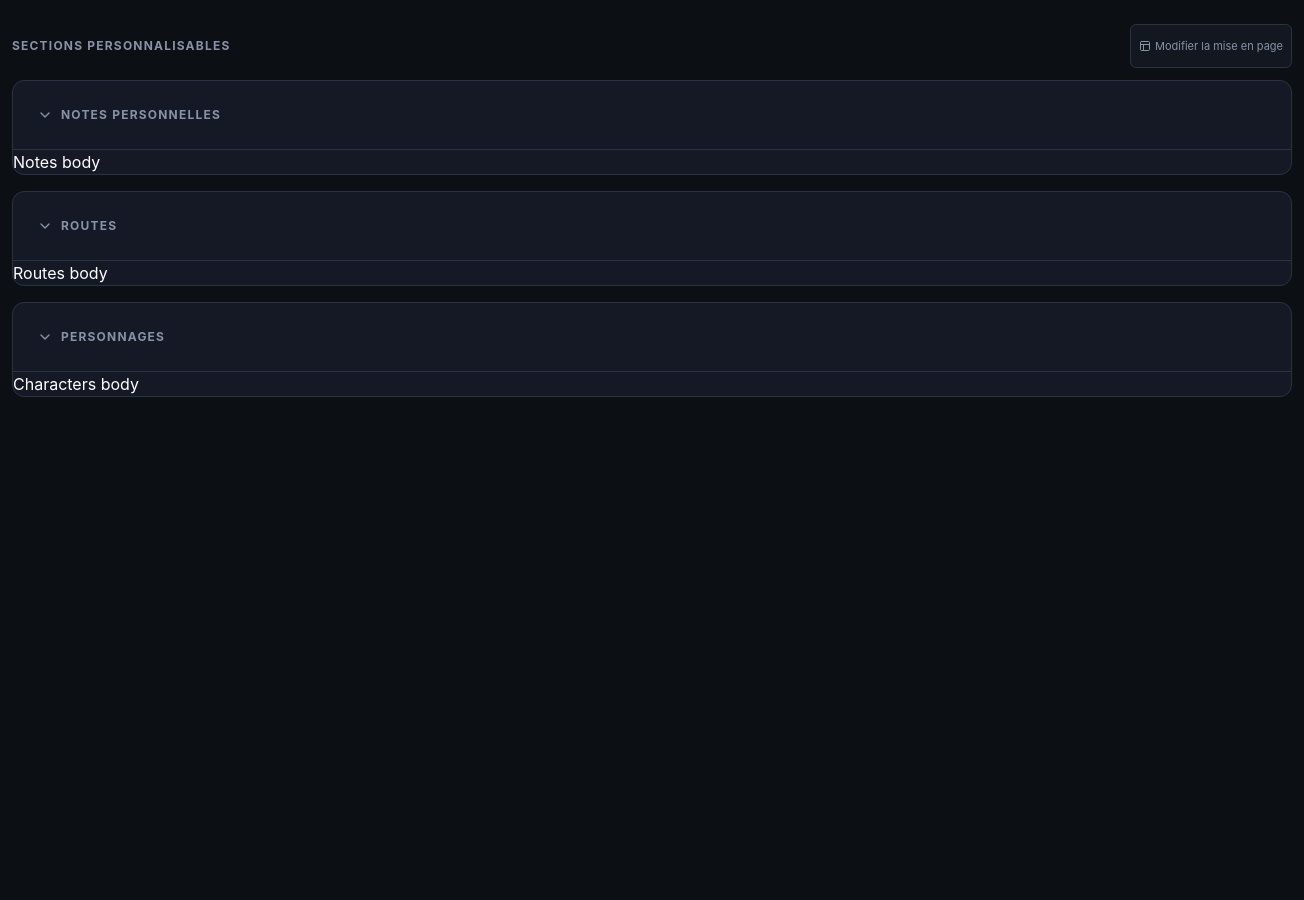
VnDetailLayout › hides a section in the draft and reflects it on save
Click the button "Modifier la mise en page": click(1211, 46) left=1130, top=24, right=1292, bottom=68
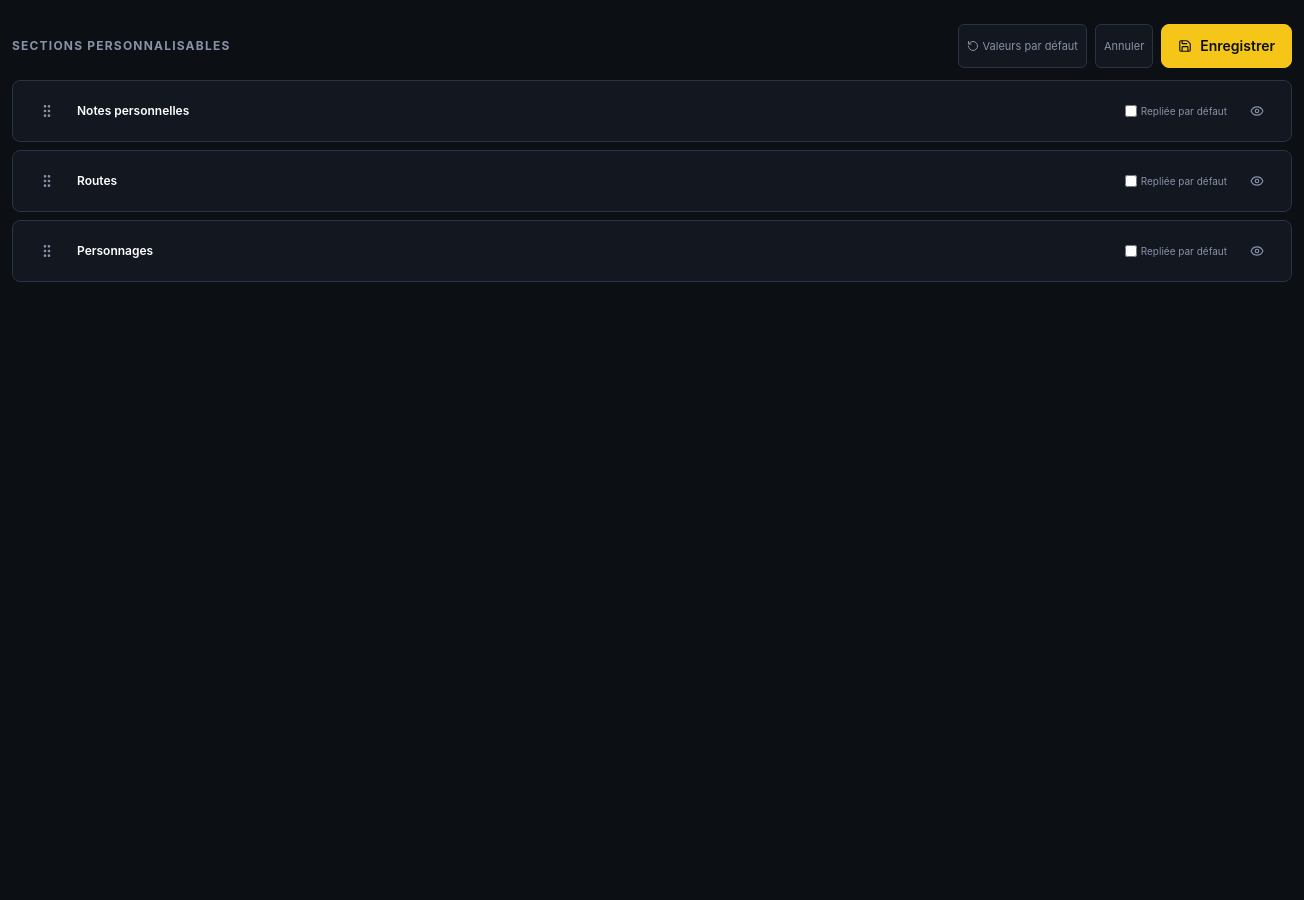
Click the button named "Masquer cette section" in the row of "Notes personnelles": click(1257, 111) left=1235, top=89, right=1279, bottom=133
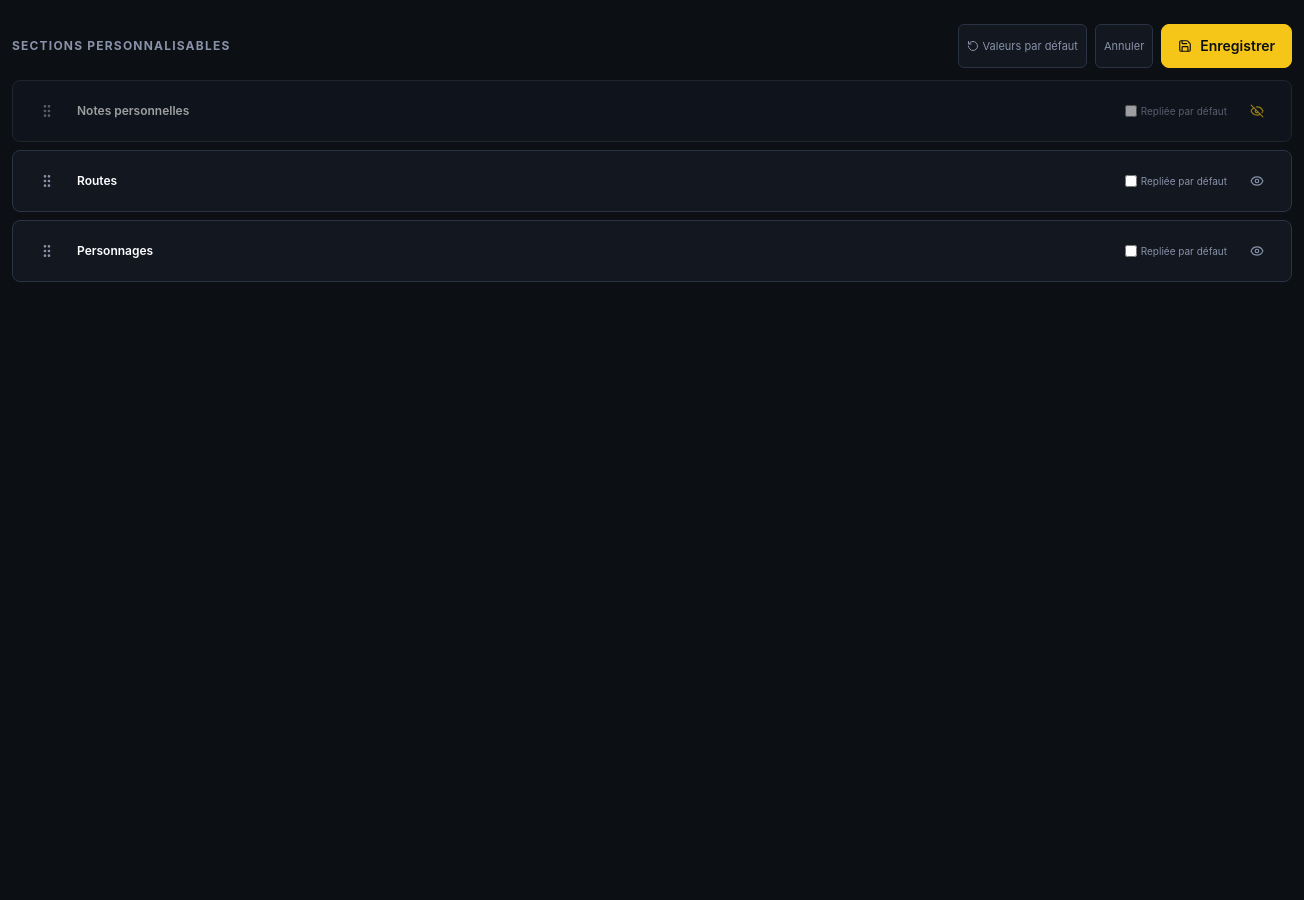
Click the button "Enregistrer": click(1227, 46) left=1161, top=24, right=1292, bottom=68
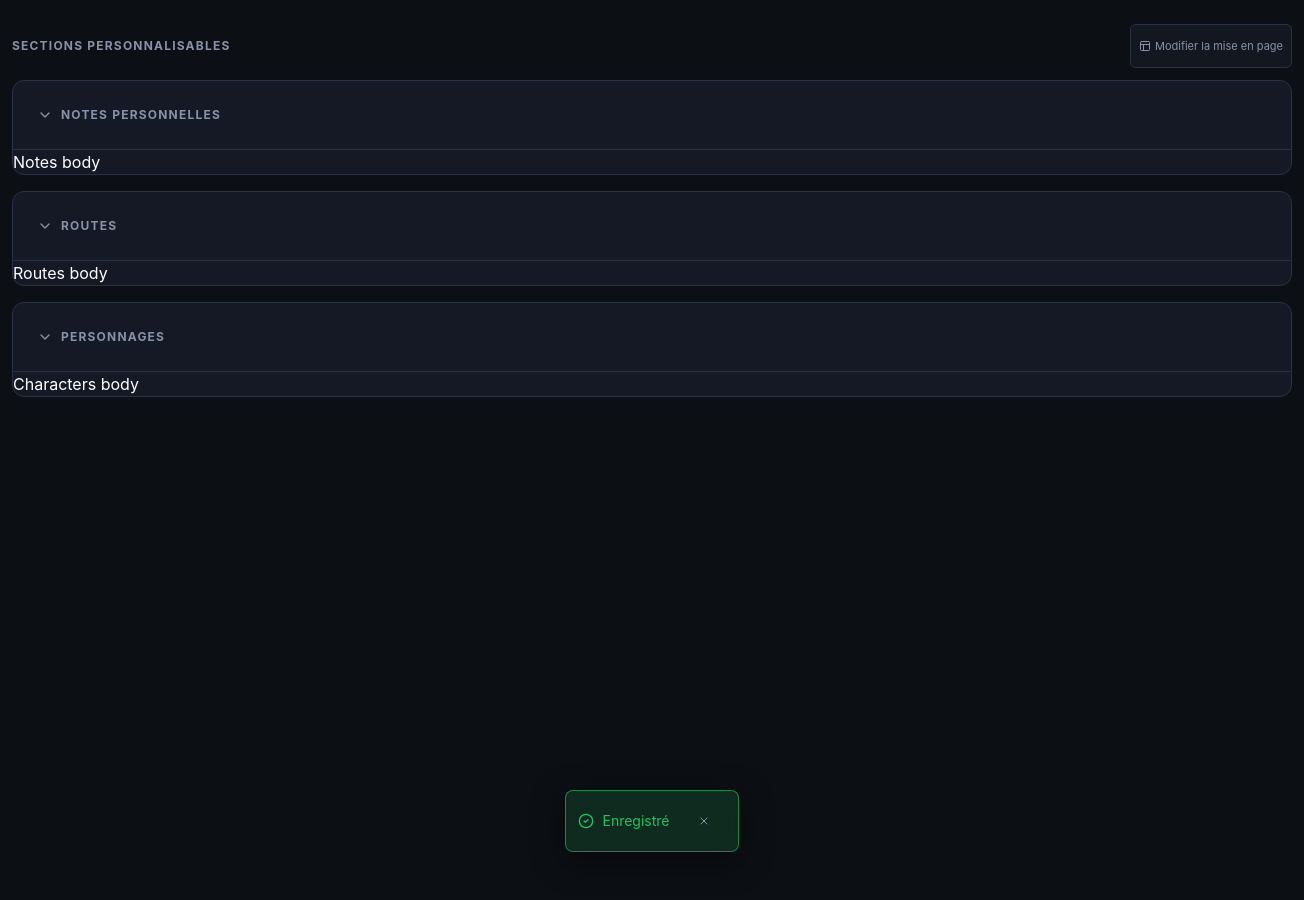
expect the button "Enregistrer" is gone: met
